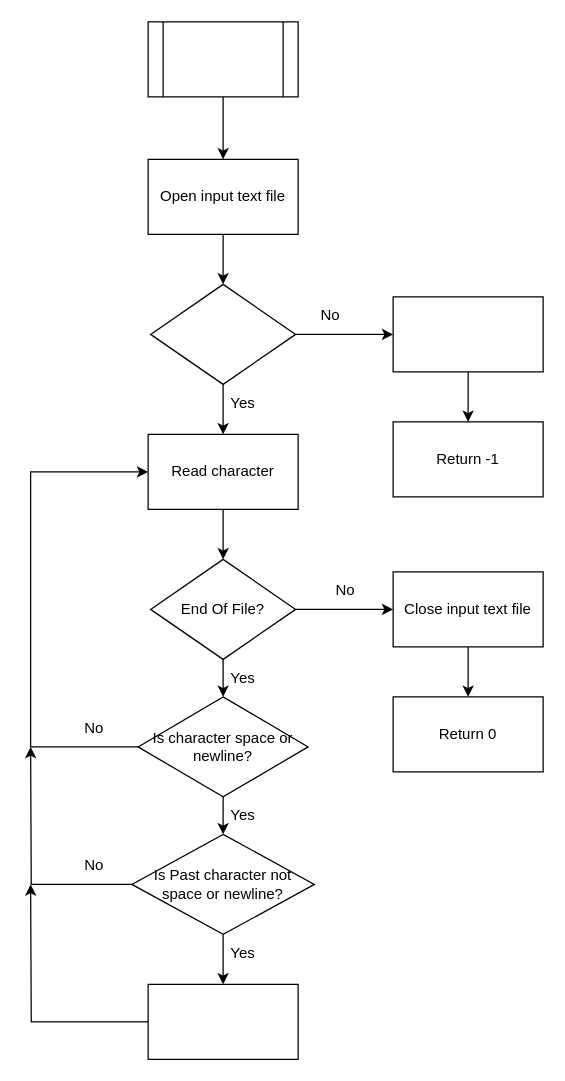
This 565x1081 diagram has some shape labels left out. The centre of each missing label's shape, as x and y in pixels:
"Can file be read?" goes at (222,333).
"F_CountWords" goes at (222,59).
"Print error" goes at (467,334).
"WordCount++" goes at (222,1021).
